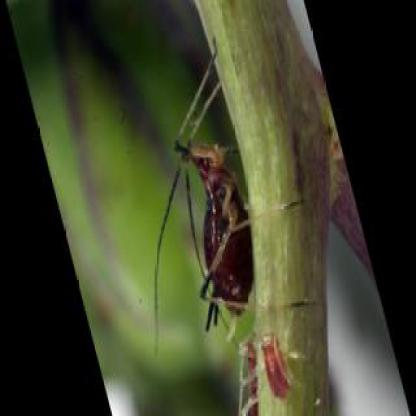uroleucon compositae: (175, 54, 255, 341)
